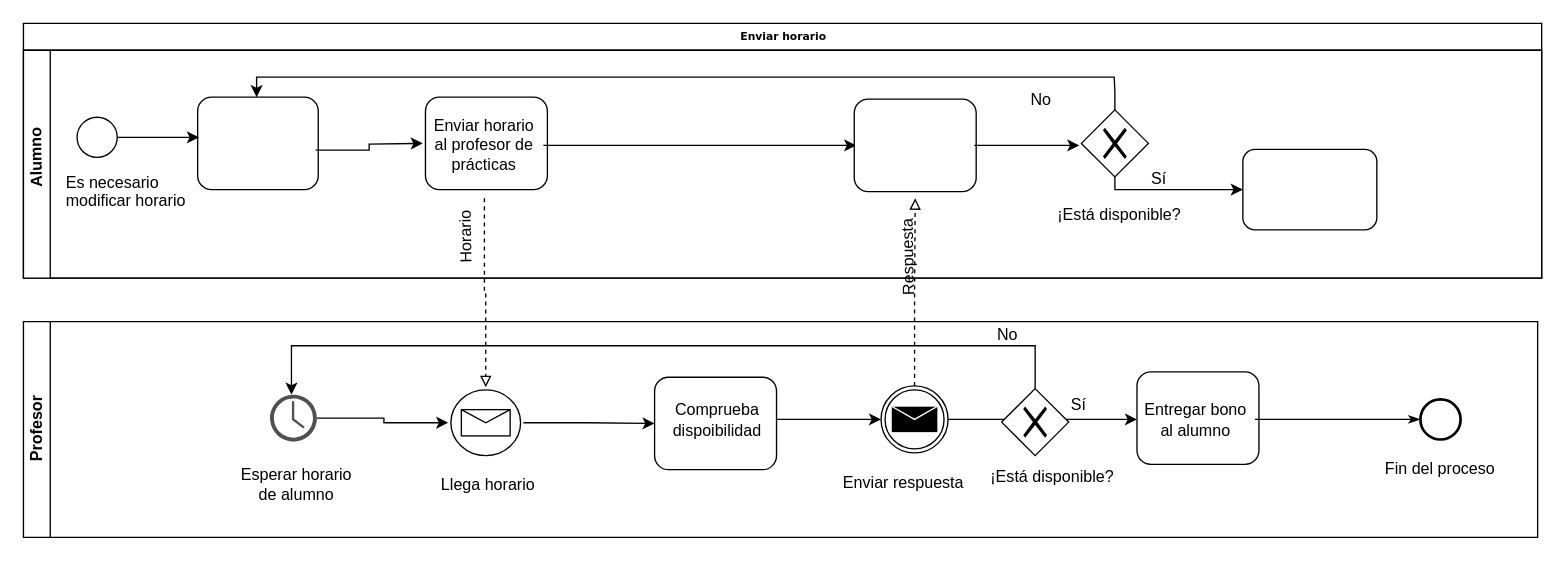
The diagram is 1566 pixels wide and 561 high, and some of its shapes have lost their labels. Here are the shapes that lost their labels. From the top down, the centre of each, then its label:
At point (257, 143): "Generar horario online mediante la apliación web".
At point (914, 145): "Recibir respuesta".
At point (1309, 189): "Guarda horario en su perfil".
